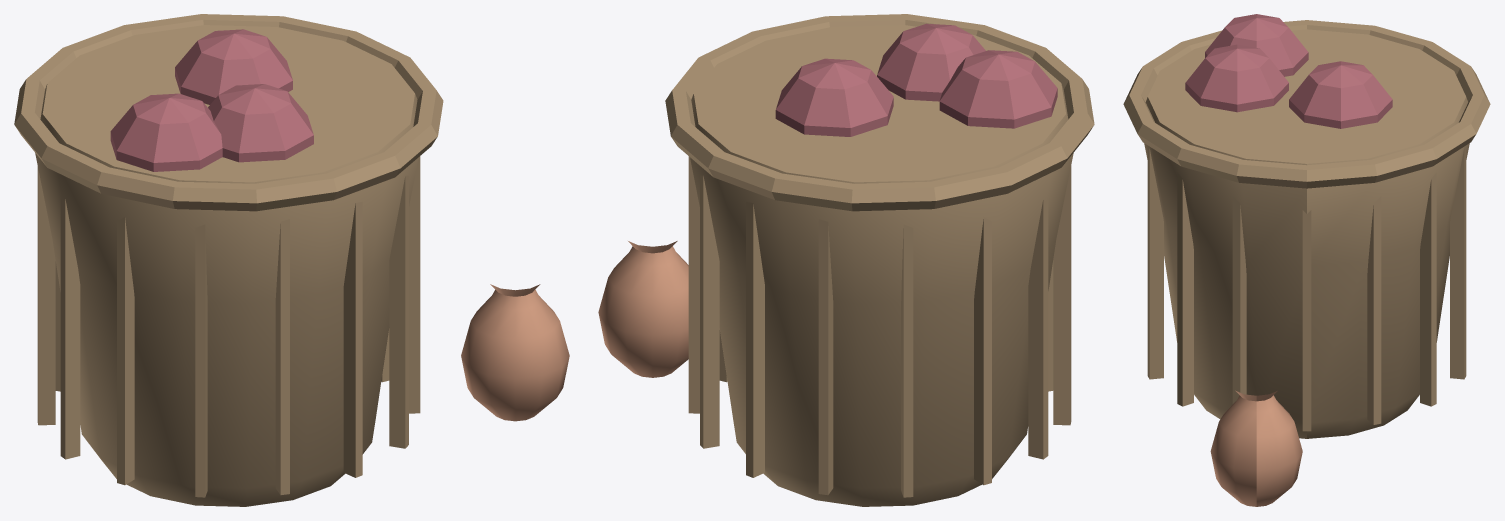
File: roman-bathhouse-and-palaestra-ball-basket-96a60930__37910.glb
3 views of the same model, side by side, from view 1: azimuth 30°, elevation 25°; view 2: azimuth 150°, elevation 25°; view 3: azimuth 270°, elevation 25° (orthographic). The views are drawn at different scales.
Parts seen in each view (by area): view 1: ball-basket; view 2: ball-basket; view 3: ball-basket.
Part boxes in pixels (x1,y1,x2,y2): ball-basket: (14,14,569,506); ball-basket: (598,14,1094,506); ball-basket: (1123,14,1490,506).
Size of the model in its own units: 1.15 by 0.89 by 0.876.
